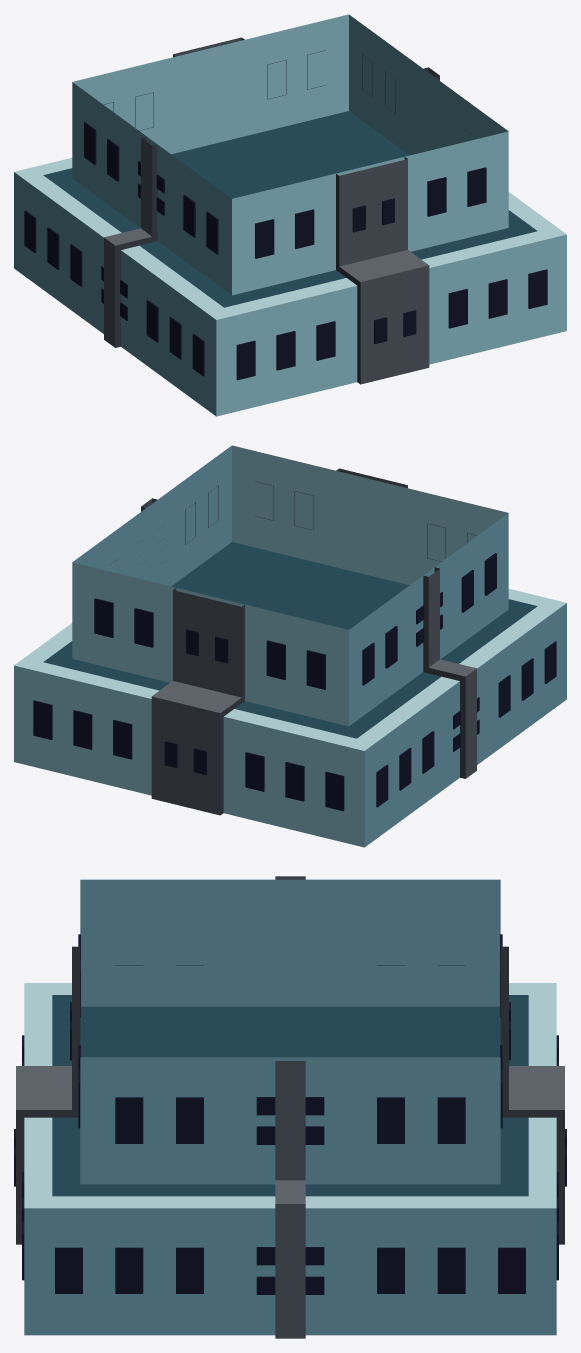
The model's file is TB_CITY_Skysc_Q_Lower_Top_Blue.FBX.
3 renders of one model, top to bottom at view 1: azimuth 30°, elevation 25°; view 2: azimuth 150°, elevation 25°; view 3: azimuth 270°, elevation 25°, orthographic. The views are drawn at different scales.
Visible parts, largest first — view 1: TB_CITY_Skysc_Q_Lower_Top_Blue; view 2: TB_CITY_Skysc_Q_Lower_Top_Blue; view 3: TB_CITY_Skysc_Q_Lower_Top_Blue.
Boxes of the visible parts, x1,y1,x2,y2 form: TB_CITY_Skysc_Q_Lower_Top_Blue: [14, 14, 566, 416]; TB_CITY_Skysc_Q_Lower_Top_Blue: [14, 445, 566, 847]; TB_CITY_Skysc_Q_Lower_Top_Blue: [14, 876, 566, 1338].
Bounding box in the file's own units: 19.6 × 10 × 19.73.
